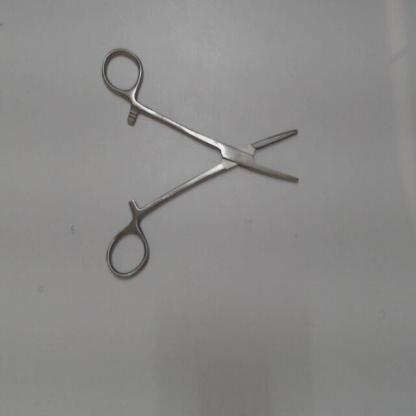Mayo Needle Holder: (98, 39, 312, 284)
